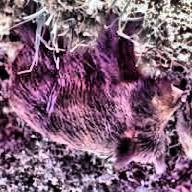boar: (0, 0, 187, 177)
